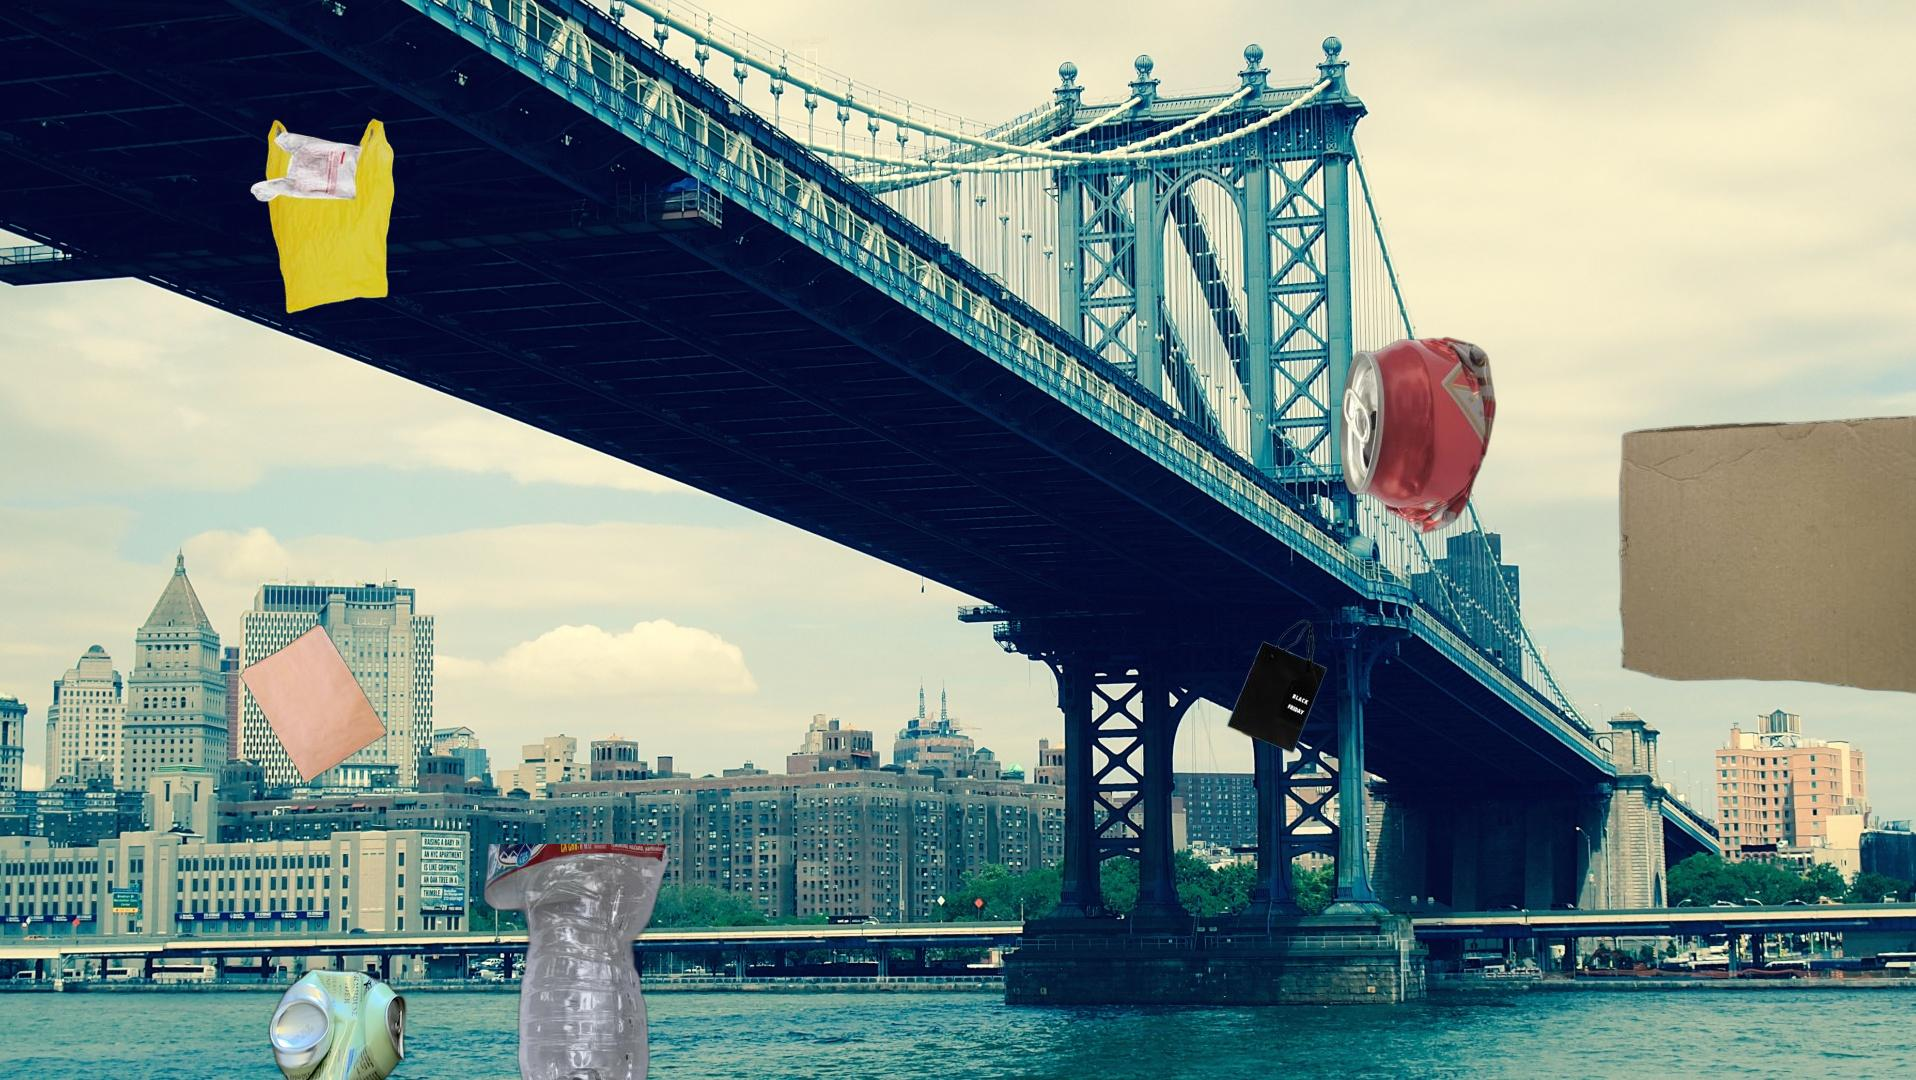metal-cans: (1334, 334, 1500, 535), (265, 962, 411, 1080)
paper-bag: (237, 621, 390, 787), (1224, 620, 1330, 755)
penholder: (1719, 389, 1916, 989)
plastic-bag: (247, 116, 396, 317)
plastic-bottles: (479, 845, 675, 1080)
trashbox-cardboard: (1616, 412, 1916, 706)
